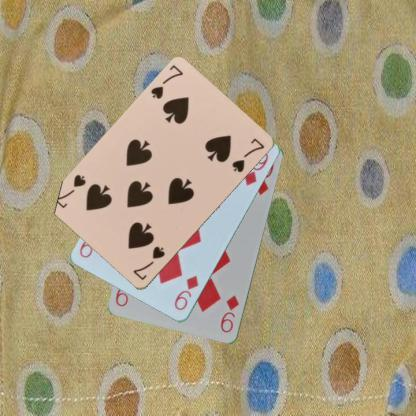7s: (130, 244, 166, 282), (148, 62, 184, 100)
9d: (172, 273, 200, 312), (218, 292, 241, 335)
